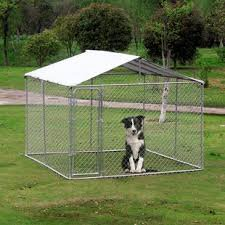dog: (114, 108, 162, 177)
